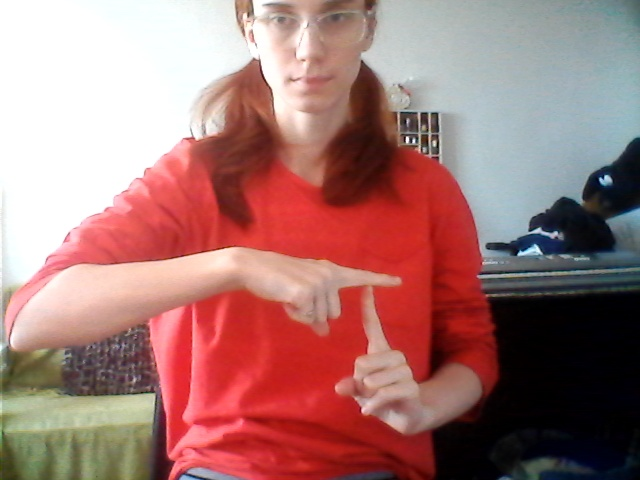t: (283, 250, 426, 438)
